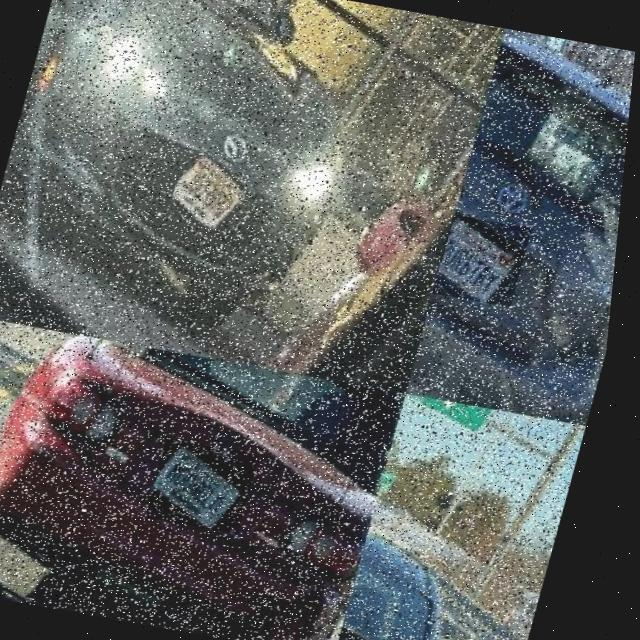LicensePlate: (165, 443, 259, 530), (444, 216, 529, 303), (177, 154, 258, 232)
